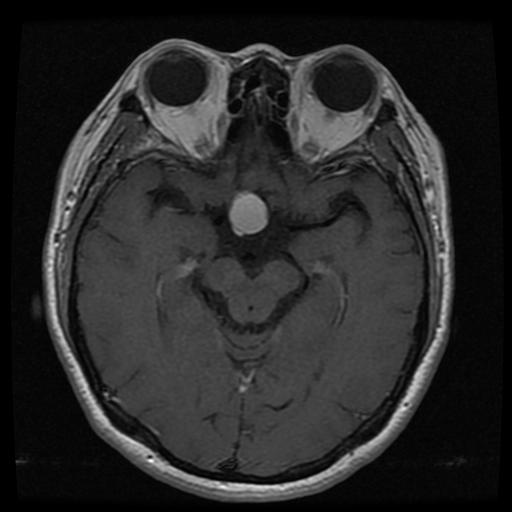Pituirity_tumour: (229, 193, 270, 233)
